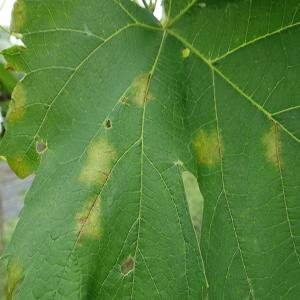Folha: (0, 0, 299, 299)
Fungo: (74, 136, 118, 246), (78, 136, 118, 188), (190, 124, 223, 168), (9, 0, 26, 34), (120, 255, 134, 276), (35, 140, 46, 154), (120, 96, 130, 107), (3, 62, 14, 72), (173, 158, 184, 168), (181, 46, 190, 58), (104, 118, 112, 129)
